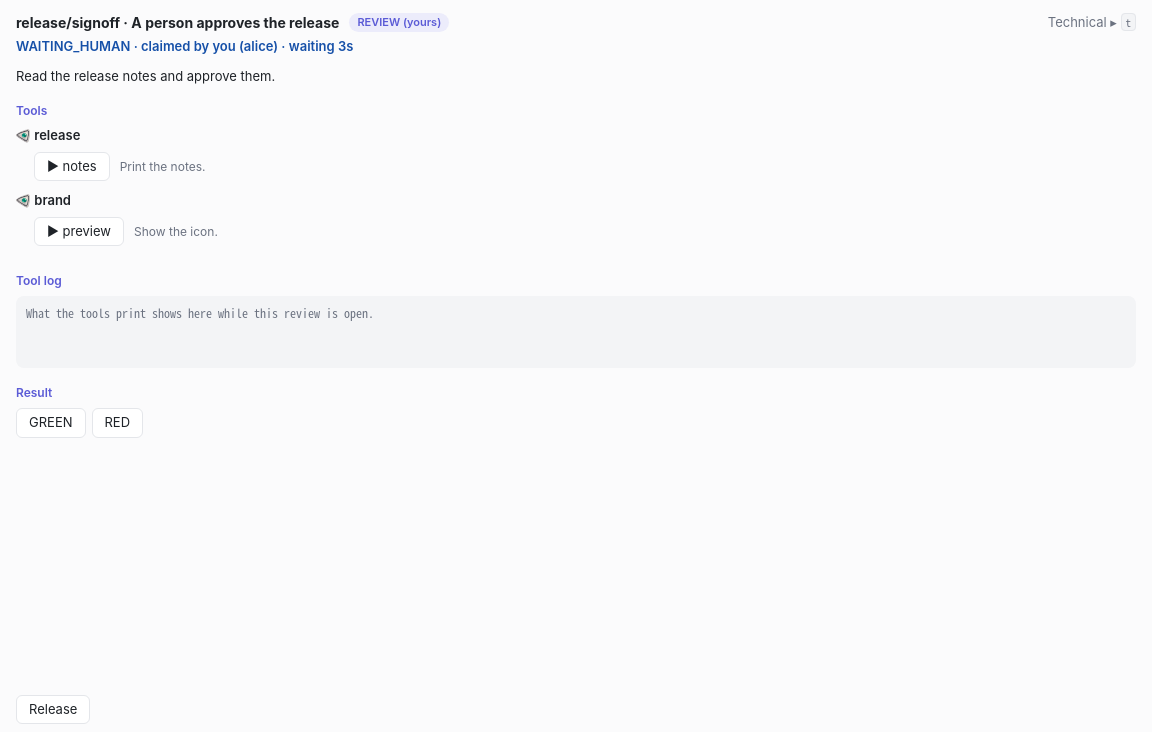
HumanDetail › groups the tools by their Artifact, the reviewed one first, and logs each run's lines under it
Expected: the text "REVIEW (yours)" is shown, [349, 13, 449, 32]
Step 1. Click the button "▶ preview" → (79, 231), box [34, 216, 124, 246]
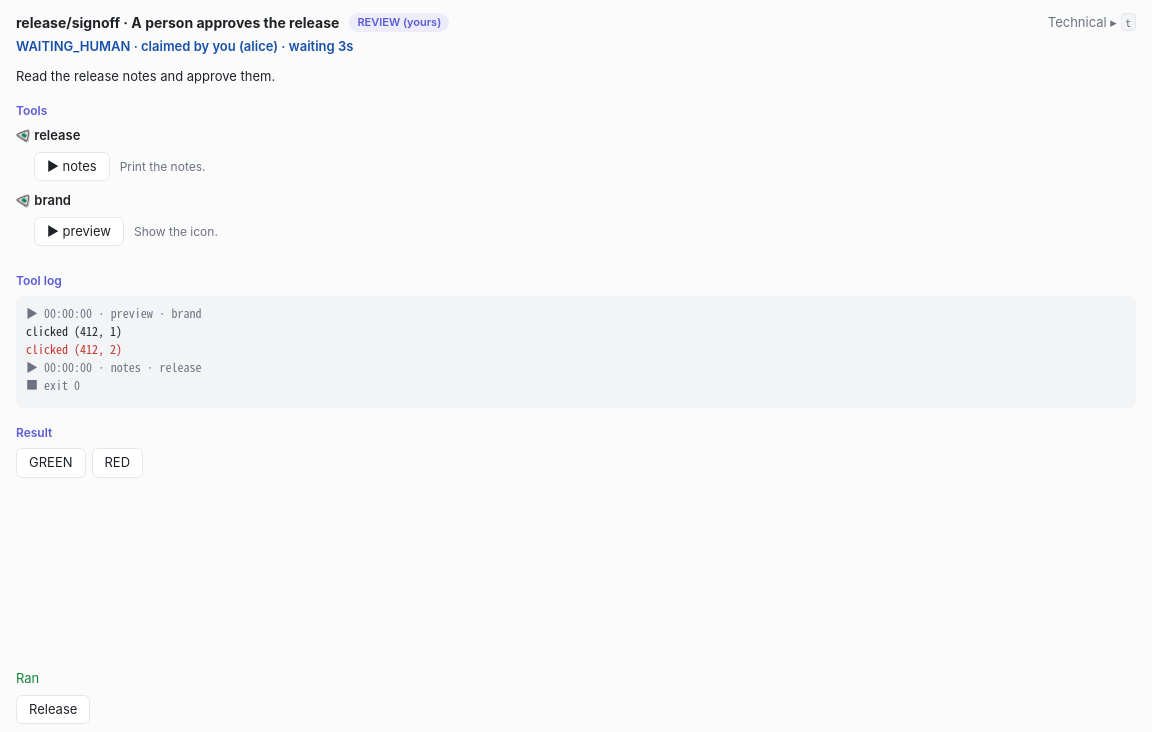
Expected: the element named "Tool log" shows "clicked (412, 2)", [26, 340, 122, 357]
